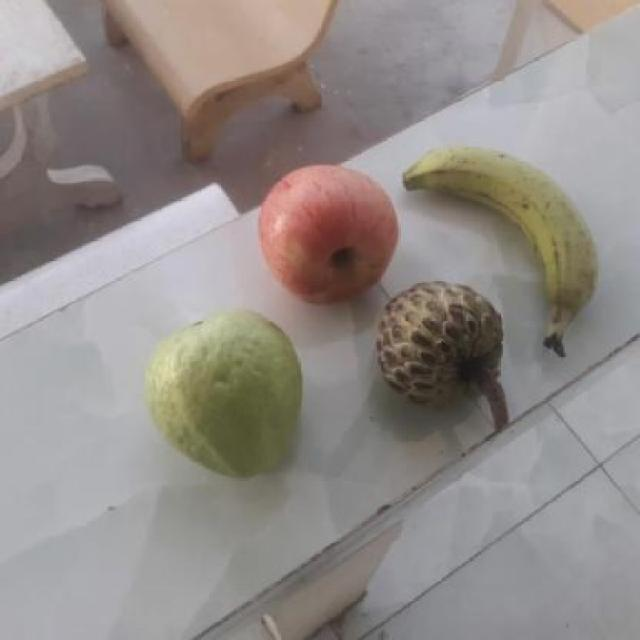apple: (249, 165, 403, 306)
banana: (391, 143, 597, 343)
guava: (135, 315, 301, 478)
sugar apple: (369, 278, 506, 416)
